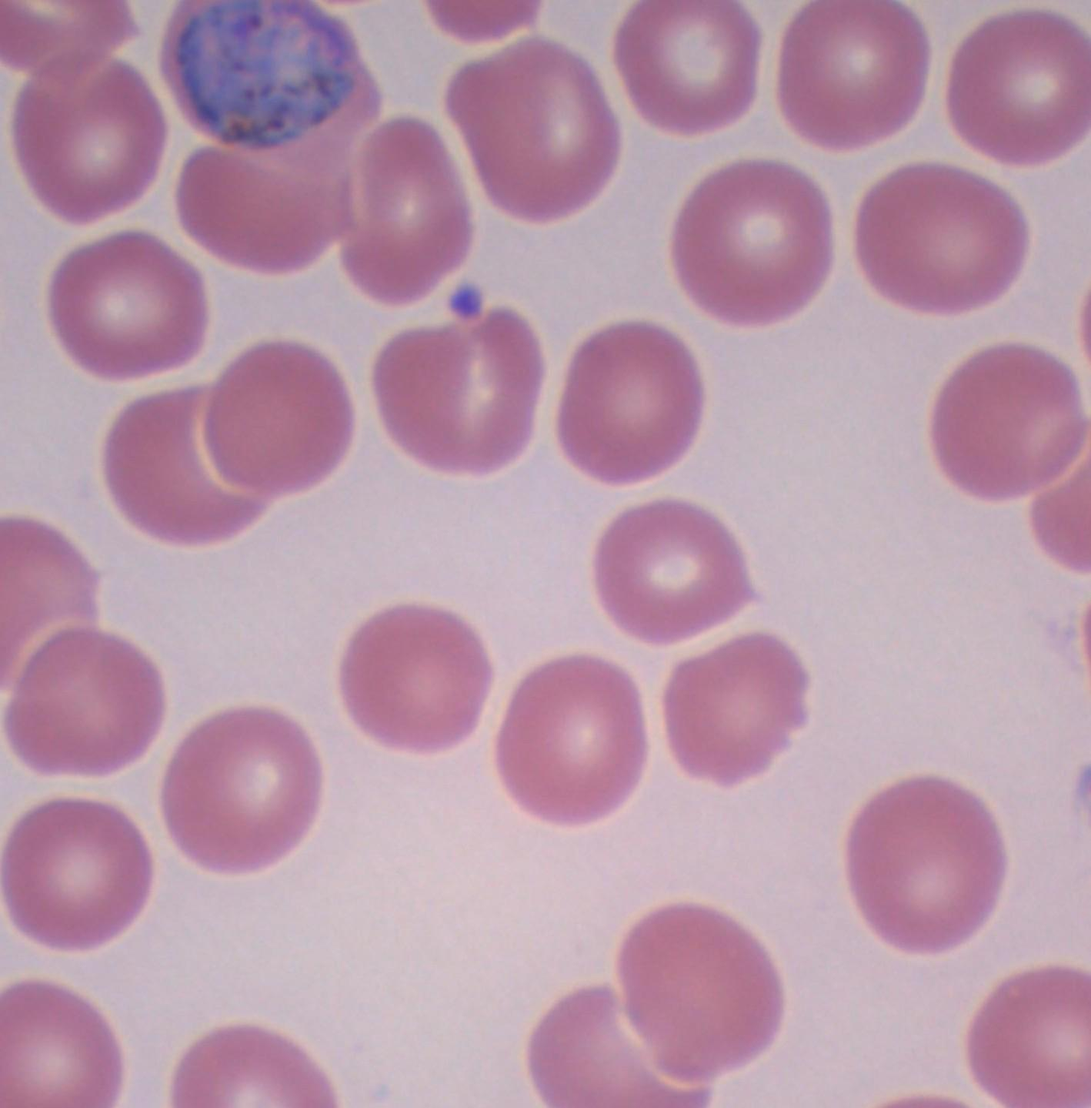Infected: (162, 0, 389, 160)
Uninfected: (441, 32, 618, 218), (364, 309, 543, 485), (151, 704, 327, 878), (844, 766, 1006, 949), (616, 897, 784, 1073), (675, 150, 835, 331), (662, 622, 823, 797), (172, 132, 360, 277), (339, 111, 481, 302), (859, 157, 1027, 318), (197, 329, 355, 497), (495, 645, 644, 823), (926, 340, 1081, 506), (8, 42, 148, 224), (557, 306, 700, 482), (105, 388, 268, 540), (0, 793, 156, 951), (592, 491, 757, 638), (333, 599, 483, 759), (5, 619, 158, 773), (777, 0, 938, 145), (44, 237, 208, 378), (521, 989, 704, 1108), (951, 10, 1091, 160), (610, 0, 751, 133), (967, 963, 1091, 1108), (0, 971, 112, 1108)
